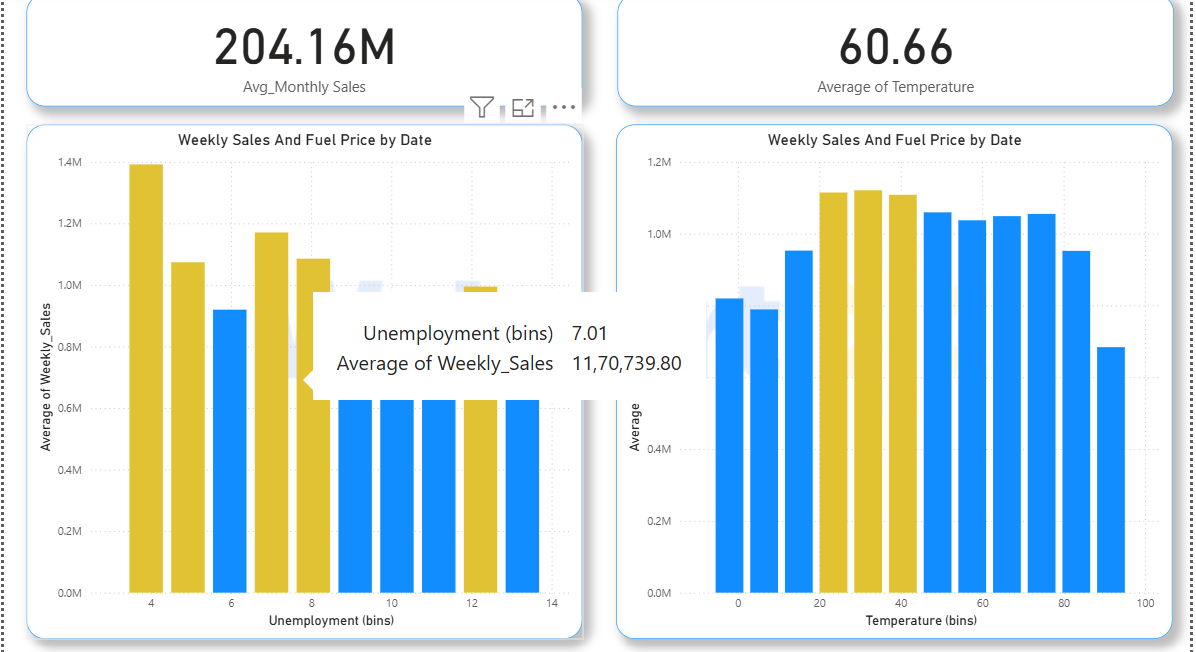

This screenshot's page, from the dashboard's own definition file:
{"tool":"powerbi","page":{"name":"Page 2","canvas":[1280,720],"ordinal":1},"visuals":[{"type":"card","fields":{"Values":["Walmart_Sales.Average_Monthly Sales"]},"box":[24.3,0,600,121.4],"z":1},{"type":"card","fields":{"Values":["Avg(Walmart_Sales.Temperature)"]},"box":[662.3,0,600.7,121.4],"z":2},{"type":"columnChart","title":"Weekly Sales And Fuel Price by Date","fields":{"Y":["Avg(Walmart_Sales.Weekly_Sales)"],"Category":["Walmart_Sales.Unemployment (bins)"]},"box":[24.3,140.9,600,555.4],"z":3},{"type":"columnChart","title":"Weekly Sales And Fuel Price by Date","fields":{"Y":["Avg(Walmart_Sales.Weekly_Sales)"],"Category":["Walmart_Sales.Temperature (bins)"]},"box":[660.6,140.9,600.7,555.4],"z":4}]}

Visuals, with their boxes on the page's 1280x720 design canvas (x1, y1, x2, y2). These are canvas units, not pixel positions in the 1196x652 screenshot, which may show the page scaled, cropped or inside an application window:
card - Walmart_Sales.Average_Monthly Sales: bbox=(24, 0, 624, 121)
card - Avg(Walmart_Sales.Temperature): bbox=(662, 0, 1263, 121)
"Weekly Sales And Fuel Price by Date" columnChart: bbox=(24, 141, 624, 696)
"Weekly Sales And Fuel Price by Date" columnChart: bbox=(661, 141, 1261, 696)
